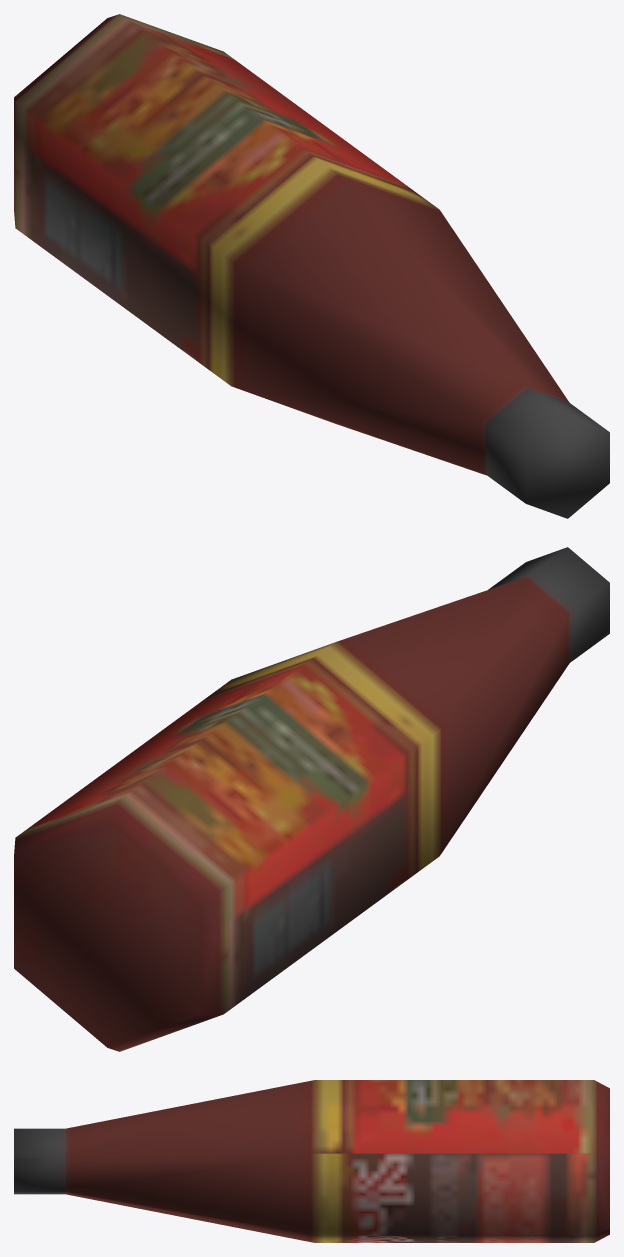
The model's file is p6_pak_food_sauce_01_LOD1.obj.
3 renders of one model, top to bottom at view 1: azimuth 30°, elevation 25°; view 2: azimuth 150°, elevation 25°; view 3: azimuth 270°, elevation 25°, orthographic. The views are drawn at different scales.
Visible parts, largest first — view 1: mtl_p6_yemen_canned_goods; view 2: mtl_p6_yemen_canned_goods; view 3: mtl_p6_yemen_canned_goods.
Boxes of the visible parts, bbox=[...] form: mtl_p6_yemen_canned_goods: bbox=[14, 14, 609, 518]; mtl_p6_yemen_canned_goods: bbox=[14, 547, 609, 1051]; mtl_p6_yemen_canned_goods: bbox=[14, 1080, 609, 1242].
Size of the model in its own units: 6.3 by 7.27 by 24.11.
